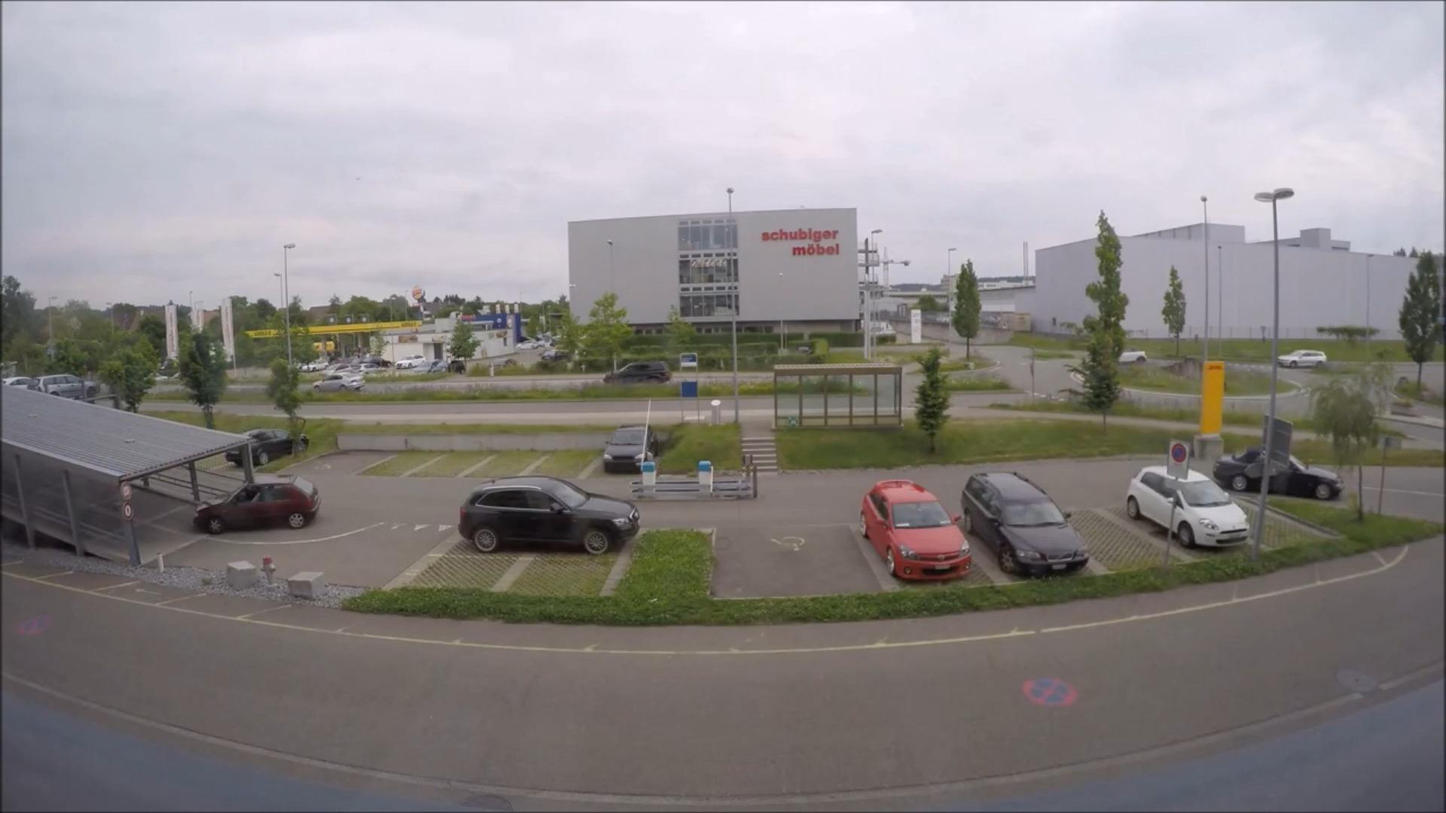available space: (296, 360, 329, 373)
occupied: (456, 474, 642, 555), (962, 470, 1094, 577), (866, 478, 974, 579), (1123, 464, 1251, 549), (194, 478, 321, 535), (1213, 448, 1347, 500), (227, 428, 312, 466), (601, 424, 660, 473), (32, 373, 91, 400), (604, 361, 670, 385), (1276, 349, 1328, 368), (313, 375, 366, 393), (396, 354, 430, 369), (356, 358, 393, 370), (1120, 350, 1148, 364), (2, 376, 34, 388), (540, 350, 570, 362)
